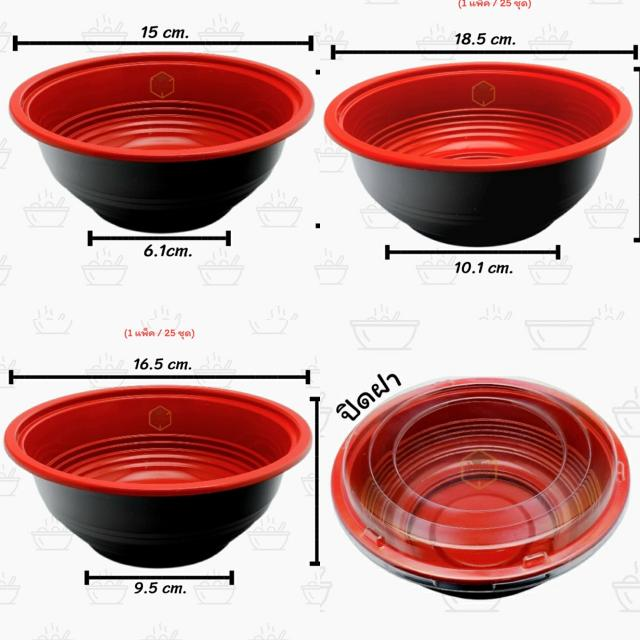Single-Use-Plastic: (331, 378, 630, 598), (325, 62, 631, 246), (5, 386, 310, 568), (10, 52, 314, 232)
